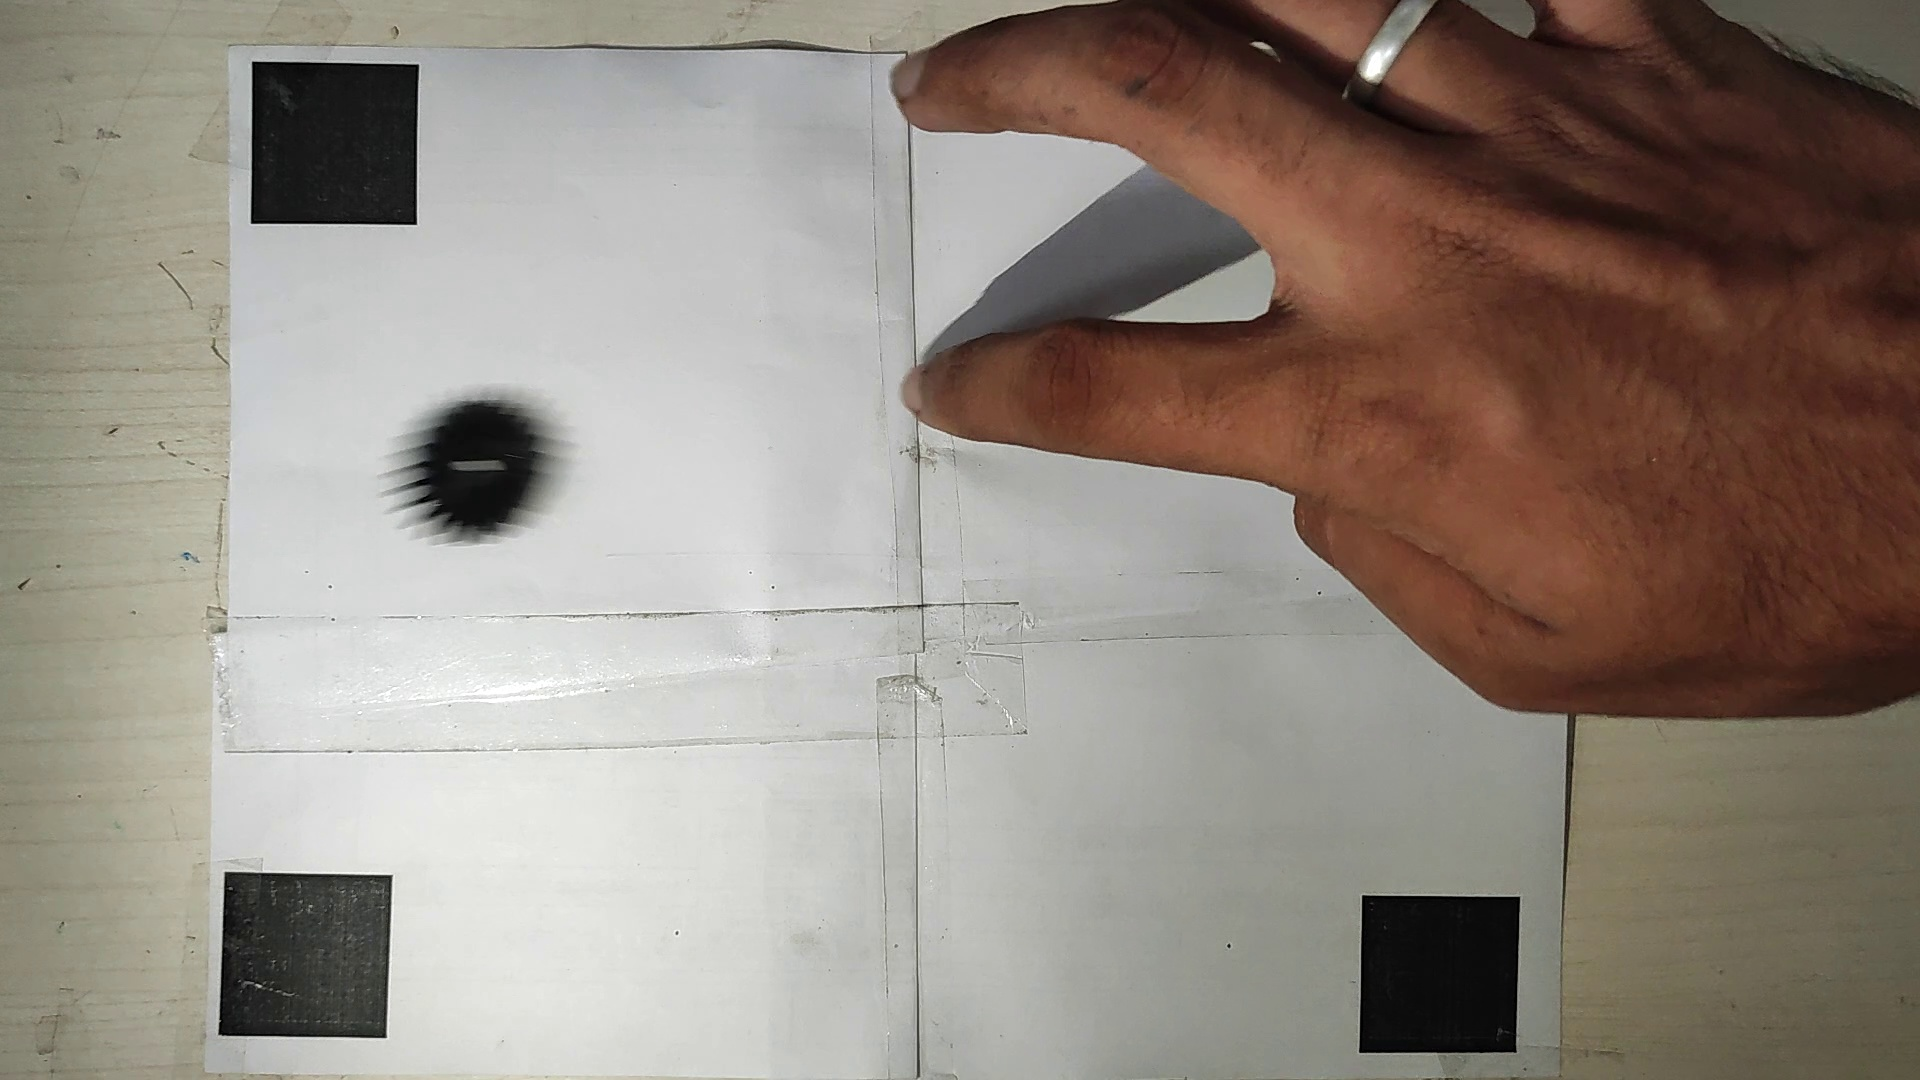Gear: (377, 393, 562, 551)
